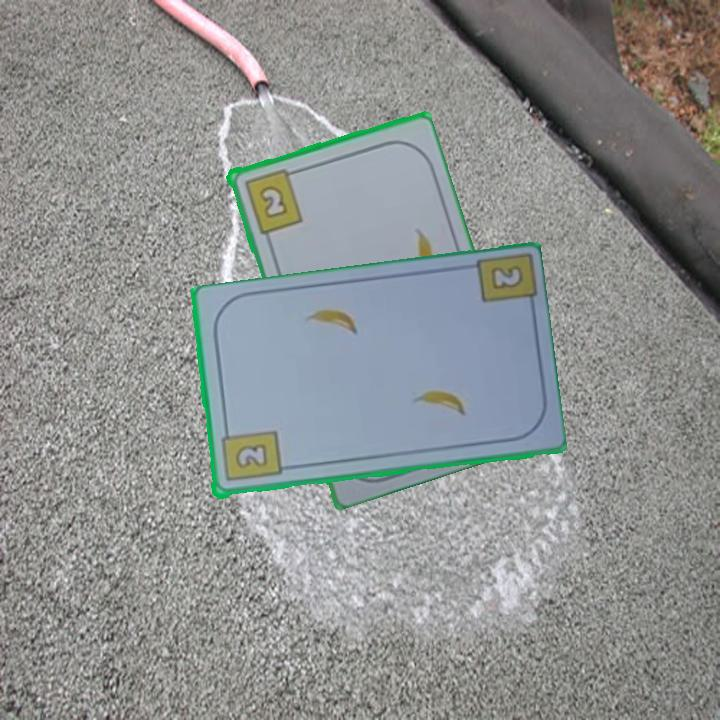2b: (240, 164, 305, 236), (217, 423, 283, 485), (490, 265, 523, 290)
